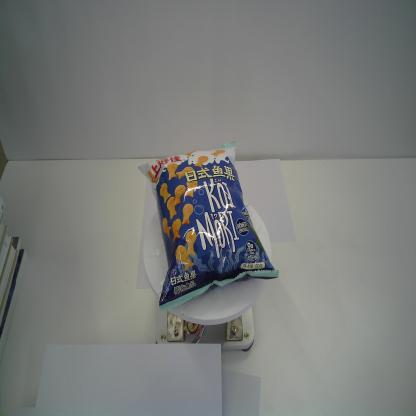Puffed Food: (136, 138, 280, 314)
